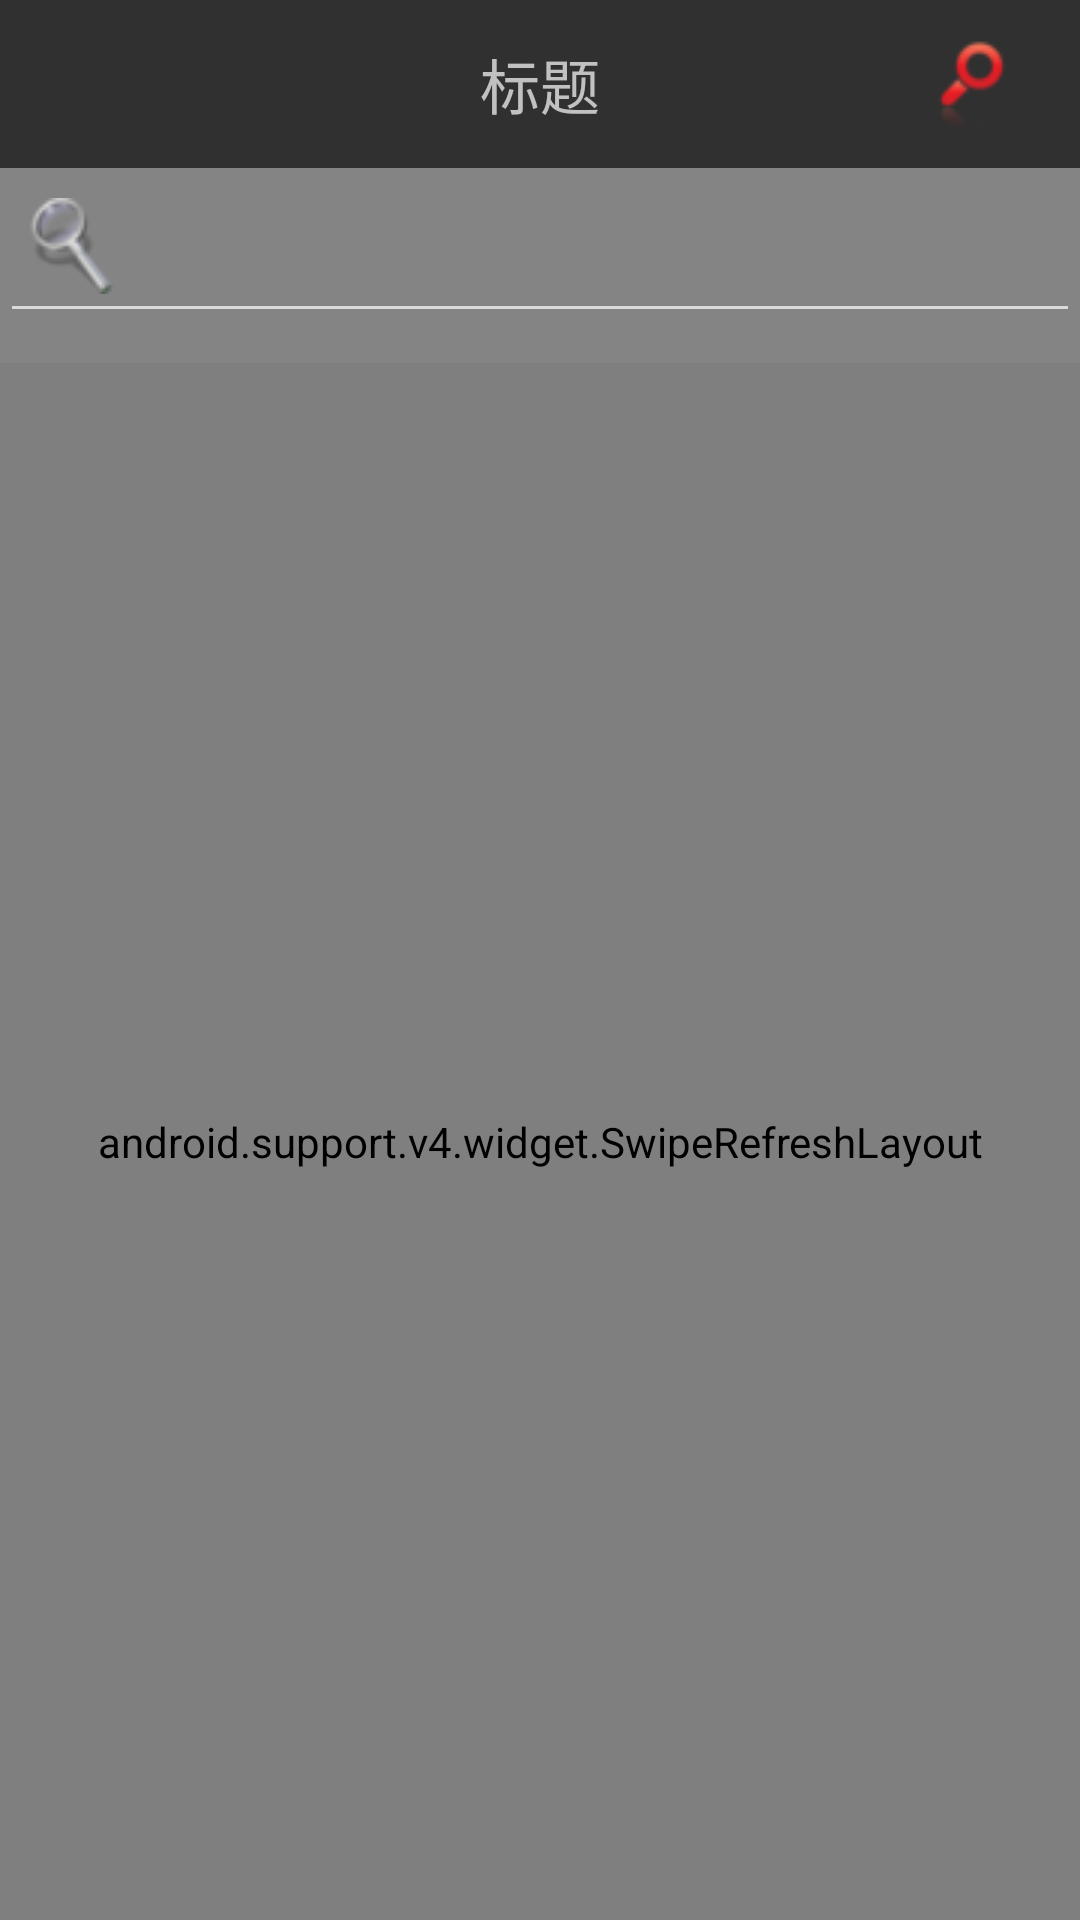

Where to tap for icons on this 1080 x 1920 app screen, as point (x, y):
search: point (972, 78), point (71, 246)
